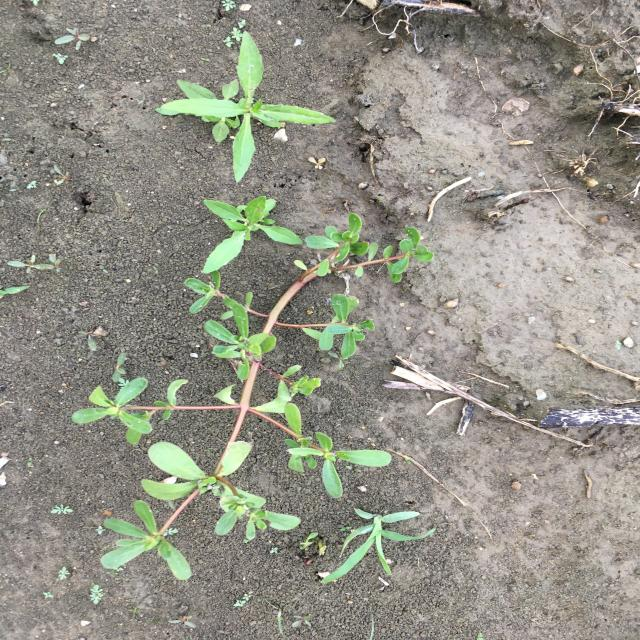Eclipta: (154, 28, 338, 184), (200, 195, 306, 275)
Goosegrass: (319, 508, 439, 585)
Purslane: (70, 213, 437, 584)
